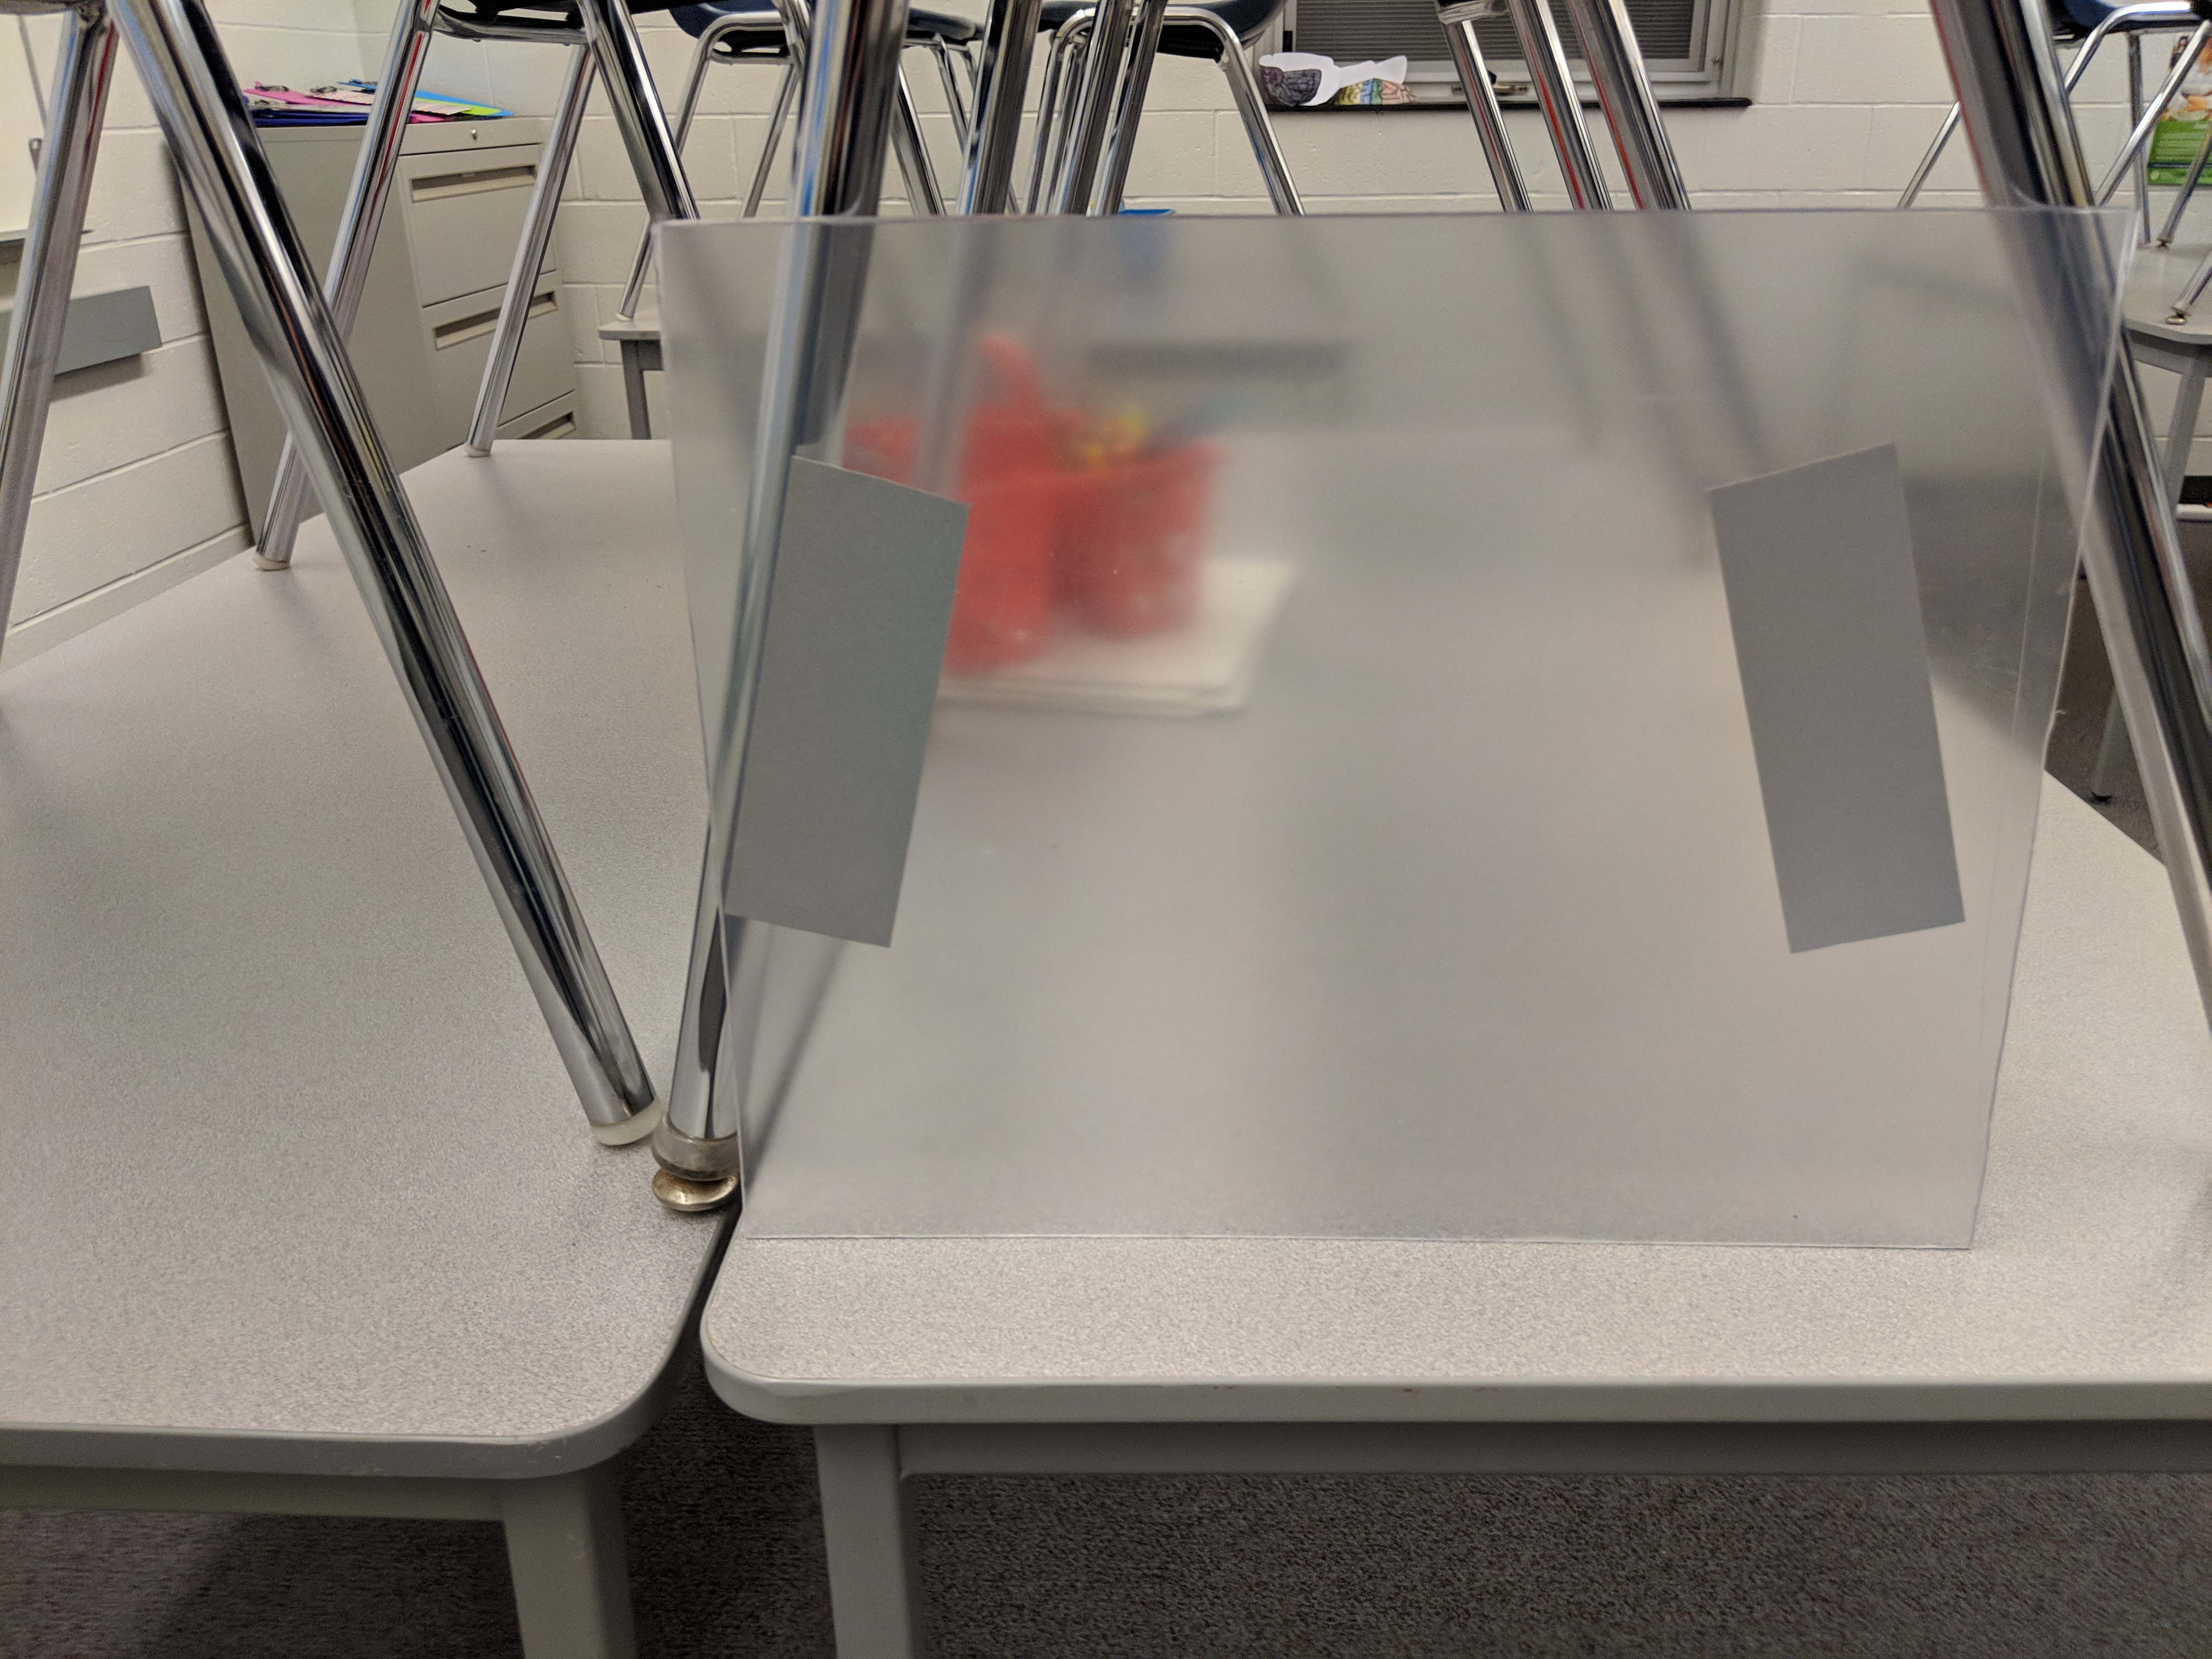vision_target: (718, 439, 1980, 958)
